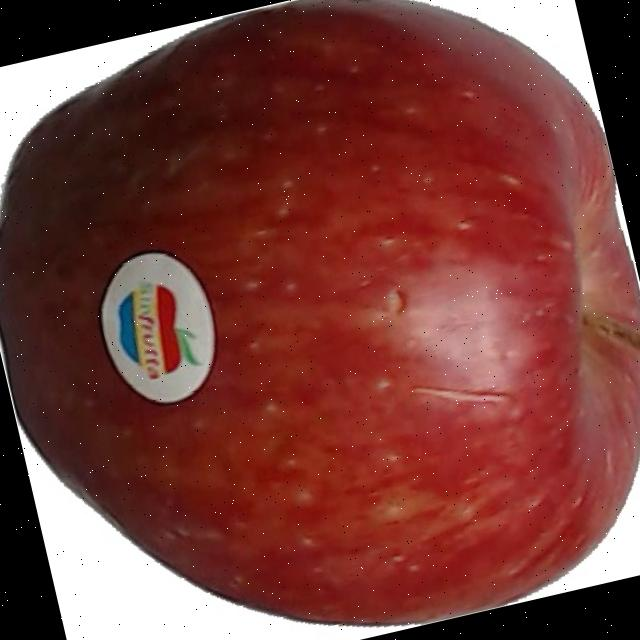apple: (0, 0, 640, 624)
